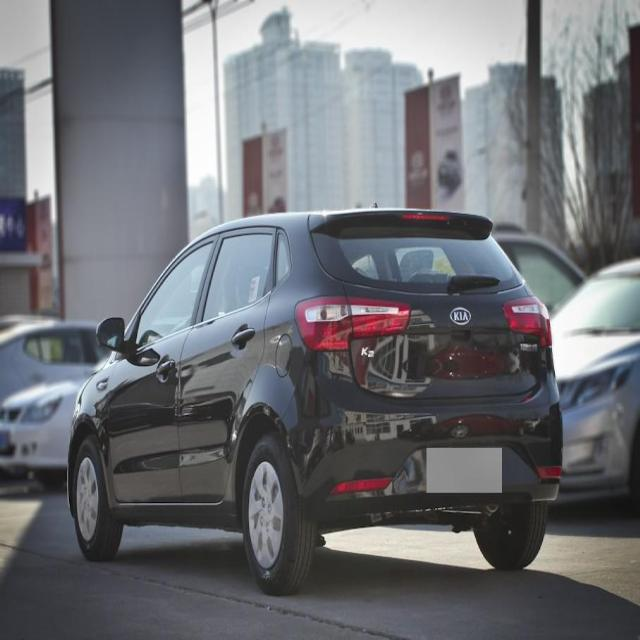back_glass: (309, 212, 526, 296)
back_left_side_light: (294, 291, 412, 354)
back_right_side_light: (501, 294, 553, 352)
door: (176, 228, 281, 516)
front_left_side_door: (105, 230, 222, 509)
front_left_side_mirror: (94, 313, 130, 355)
rear_bumper: (274, 365, 564, 520)
wheel: (242, 430, 316, 597), (72, 434, 125, 560)
